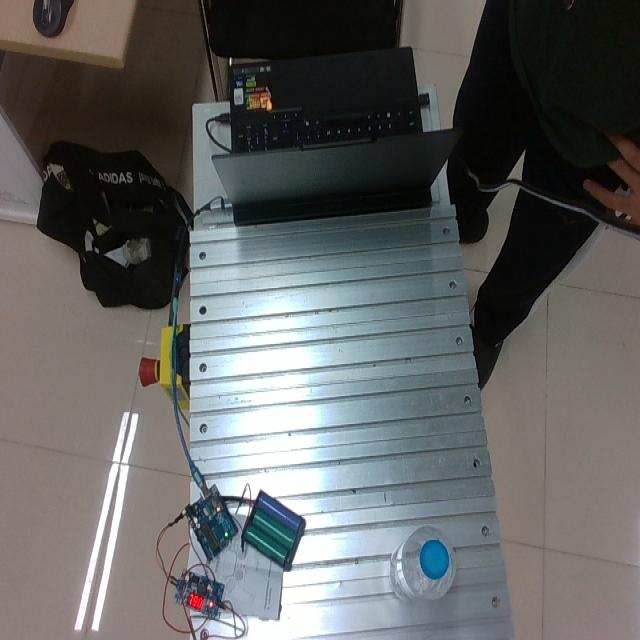lavie: (389, 524, 457, 603)
